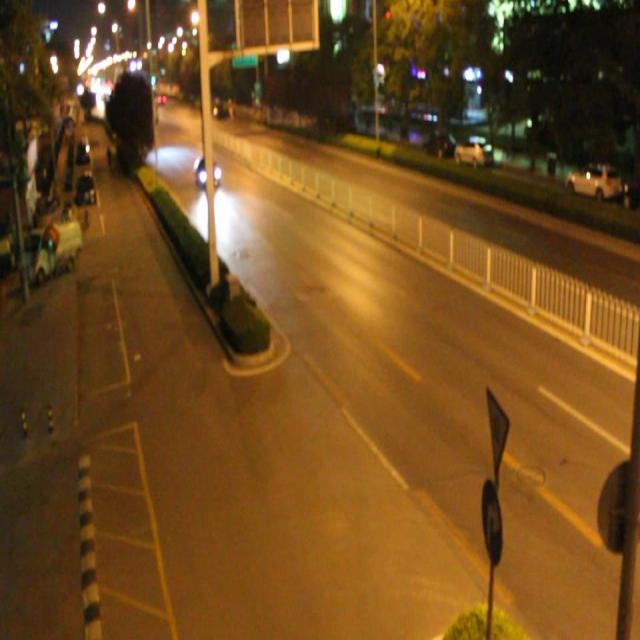car: (193, 156, 221, 188)
